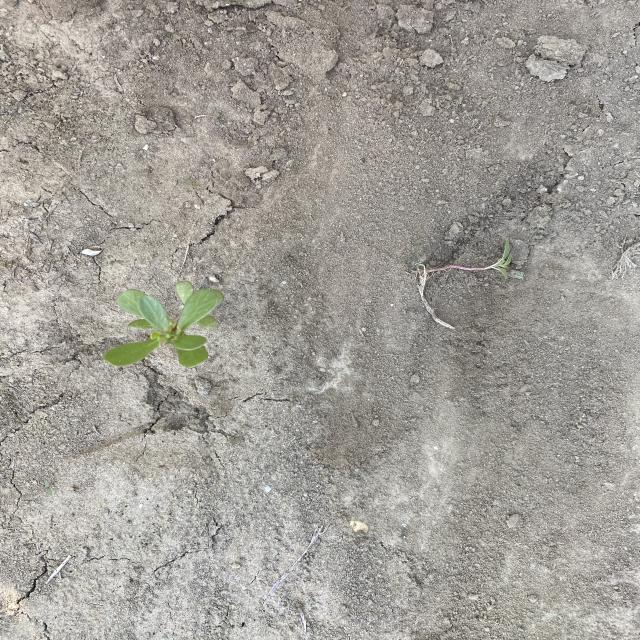Purslane: (101, 279, 226, 371)
